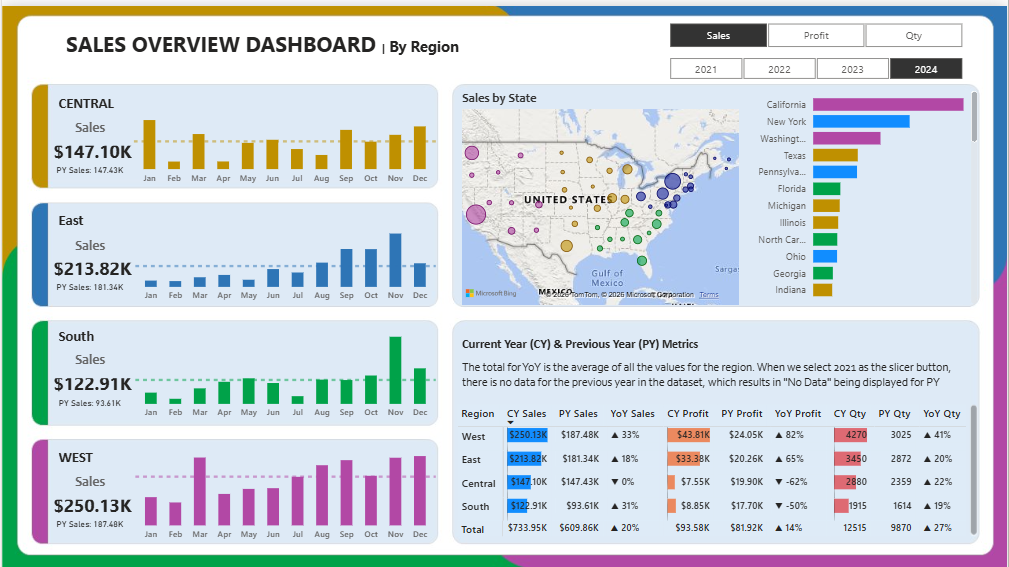

Layout of this report page (visuals, bound fields, positions):
{"tool":"powerbi","page":{"name":"Page 1","canvas":[1280,720],"ordinal":0},"visuals":[{"type":"slicer","fields":{"Values":["Select Metric.Select Metric"]},"box":[824.8,15.6,421.2,43.8],"z":0},{"type":"slicer","fields":{"Values":["Calendar Table.Year"]},"box":[824.8,59.3,421.2,36],"z":1000},{"type":"card","fields":{"Values":["Sales Data.Total Sales"]},"box":[53.5,171.2,122.6,26.3],"z":1000,"group":"g1"},{"type":"card","fields":{"Values":["Sales Data.Total Sales"]},"box":[53.5,320,122.6,26.3],"z":1000,"group":"g2"},{"type":"card","fields":{"Values":["Sales Data.Total Sales"]},"box":[53.5,467.8,122.6,26.3],"z":1000,"group":"g3"},{"type":"card","fields":{"Values":["Sales Data.Total Sales"]},"box":[53.5,622.3,122.6,26.3],"z":1000,"group":"g4"},{"type":"textbox","box":[76.8,24.3,532,45.7],"z":2000},{"type":"textbox","box":[66.1,107,96.3,33.1],"z":2000,"group":"g1"},{"type":"textbox","box":[66.1,255.8,96.3,33.1],"z":2000,"group":"g2"},{"type":"textbox","box":[66.1,403.6,96.3,33.1],"z":2000,"group":"g3"},{"type":"textbox","box":[66.1,558.1,96.3,33.1],"z":2000,"group":"g4"},{"type":"group","id":"g1","title":"Group 1","box":[53.5,107,503.8,129.4],"z":3000},{"type":"card","fields":{"Values":["Sales Data.Dynamic Title"]},"box":[61.3,140.1,101.2,31.1],"z":4000,"group":"g1"},{"type":"group","id":"g2","title":"Group 1","box":[53.5,253.1,503.3,132.3],"z":4000},{"type":"card","fields":{"Values":["Sales Data.Dynamic Title"]},"box":[61.3,288.9,101.2,31.1],"z":4000,"group":"g2"},{"type":"card","fields":{"Values":["Sales Data.Dynamic Title"]},"box":[61.3,436.7,101.2,31.1],"z":4000,"group":"g3"},{"type":"card","fields":{"Values":["Sales Data.Dynamic Title"]},"box":[61.3,591.2,101.2,31.1],"z":4000,"group":"g4"},{"type":"card","fields":{"Values":["Sales Data.PY KPI Sales"]},"box":[61.3,192.6,101.2,36],"z":5000,"group":"g1"},{"type":"card","fields":{"Values":["Sales Data.PY KPI Sales"]},"box":[61.3,341.4,101.2,36],"z":5000,"group":"g2"},{"type":"group","id":"g3","title":"Group 1","box":[53.5,403.6,503.3,132.6],"z":5000},{"type":"card","fields":{"Values":["Sales Data.PY KPI Sales"]},"box":[61.3,489.2,101.2,36],"z":5000,"group":"g3"},{"type":"card","fields":{"Values":["Sales Data.PY KPI Sales"]},"box":[61.3,643.7,101.2,36],"z":5000,"group":"g4"},{"type":"clusteredColumnChart","fields":{"Y":["Sales Data.Total Sales"],"Category":["Calendar Table.Month"]},"box":[162.4,107,394.9,129.4],"z":6000,"group":"g1"},{"type":"clusteredColumnChart","fields":{"Y":["Sales Data.Total Sales"],"Category":["Calendar Table.Month"]},"box":[163.9,253.1,392.9,132.3],"z":6000,"group":"g2"},{"type":"clusteredColumnChart","fields":{"Y":["Sales Data.Total Sales"],"Category":["Calendar Table.Month"]},"box":[163.9,403.9,392.9,132.3],"z":6000,"group":"g3"},{"type":"group","id":"g4","title":"Group 1","box":[53.5,558.1,502.9,132],"z":6000},{"type":"clusteredColumnChart","fields":{"Y":["Sales Data.Total Sales"],"Category":["Calendar Table.Month"]},"box":[163.9,558.4,392.9,132.3],"z":6000,"group":"g4"},{"type":"map","title":"Sales by State","fields":{"Size":["Sales Data.Total Sales"],"Category":["Sales Data.State/Province"],"Series":["Sales Data.Region"]},"box":[580.7,107,361.8,278.2],"z":7000},{"type":"barChart","fields":{"Y":["Sales Data.Total Sales"],"Category":["Sales Data.State/Province"],"Series":["Sales Data.Region"]},"box":[942.6,95.8,303.1,288.5],"z":8000},{"type":"pivotTable","fields":{"Rows":["Sales Data.Region"],"Values":["Sales Data.CY Sales","Sales Data.PYSales","Sales Data.YoY Sales","Sales Data.CY Profit","Sales Data.PY Profit","Sales Data.YoY Profit","Sales Data.CY Qty","Sales Data.PY Qty","Sales Data.YoY Qty"]},"box":[574,502.6,671.8,178],"z":9000},{"type":"textbox","box":[580.5,414,344.2,31.1],"z":10000},{"type":"textbox","box":[580.8,444.9,664.9,48.9],"z":11000}]}

Visuals, with their boxes in screenshot pixels (x1, y1, x2, y2), scaled from the page's 1280x720 canvas onto the 1009x567 screenshot:
slicer - Select Metric.Select Metric: <region>650, 12, 982, 47</region>
slicer - Calendar Table.Year: <region>650, 47, 982, 75</region>
card - Sales Data.Total Sales: <region>42, 135, 139, 156</region>
card - Sales Data.Total Sales: <region>42, 252, 139, 273</region>
card - Sales Data.Total Sales: <region>42, 368, 139, 389</region>
card - Sales Data.Total Sales: <region>42, 490, 139, 511</region>
textbox: <region>61, 19, 480, 55</region>
textbox: <region>52, 84, 128, 110</region>
textbox: <region>52, 201, 128, 228</region>
textbox: <region>52, 318, 128, 344</region>
textbox: <region>52, 440, 128, 466</region>
"Group 1" group: <region>42, 84, 439, 186</region>
card - Sales Data.Dynamic Title: <region>48, 110, 128, 135</region>
"Group 1" group: <region>42, 199, 439, 304</region>
card - Sales Data.Dynamic Title: <region>48, 228, 128, 252</region>
card - Sales Data.Dynamic Title: <region>48, 344, 128, 368</region>
card - Sales Data.Dynamic Title: <region>48, 466, 128, 490</region>
card - Sales Data.PY KPI Sales: <region>48, 152, 128, 180</region>
card - Sales Data.PY KPI Sales: <region>48, 269, 128, 297</region>
"Group 1" group: <region>42, 318, 439, 422</region>
card - Sales Data.PY KPI Sales: <region>48, 385, 128, 414</region>
card - Sales Data.PY KPI Sales: <region>48, 507, 128, 535</region>
clusteredColumnChart - Sales Data.Total Sales x Calendar Table.Month: <region>128, 84, 439, 186</region>
clusteredColumnChart - Sales Data.Total Sales x Calendar Table.Month: <region>129, 199, 439, 304</region>
clusteredColumnChart - Sales Data.Total Sales x Calendar Table.Month: <region>129, 318, 439, 422</region>
"Group 1" group: <region>42, 440, 439, 543</region>
clusteredColumnChart - Sales Data.Total Sales x Calendar Table.Month: <region>129, 440, 439, 544</region>
"Sales by State" map: <region>458, 84, 743, 303</region>
barChart - Sales Data.Total Sales x Sales Data.State/Province: <region>743, 75, 982, 303</region>
pivotTable - Sales Data.Region x Sales Data.CY Sales: <region>452, 396, 982, 536</region>
textbox: <region>458, 326, 729, 351</region>
textbox: <region>458, 350, 982, 389</region>
